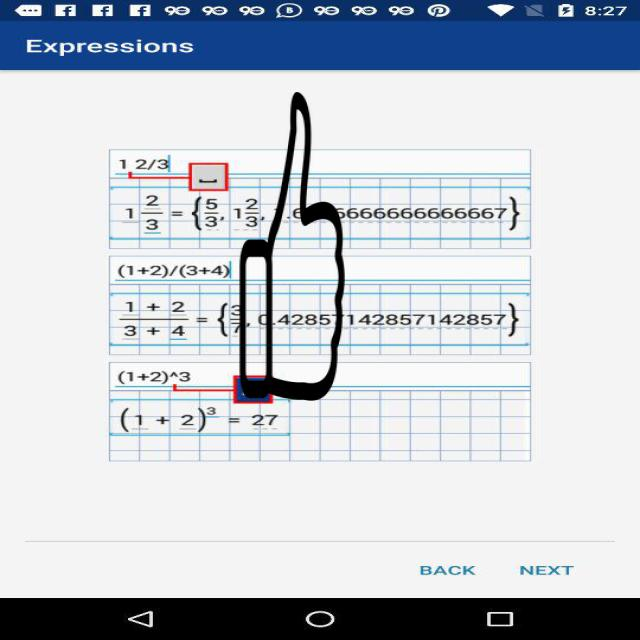privacy zuckering: (238, 92, 346, 401)
